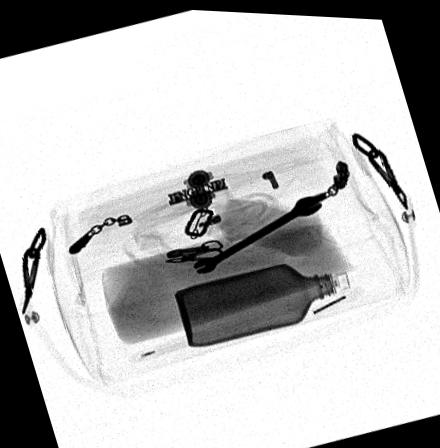Wrench: (190, 190, 323, 272)
